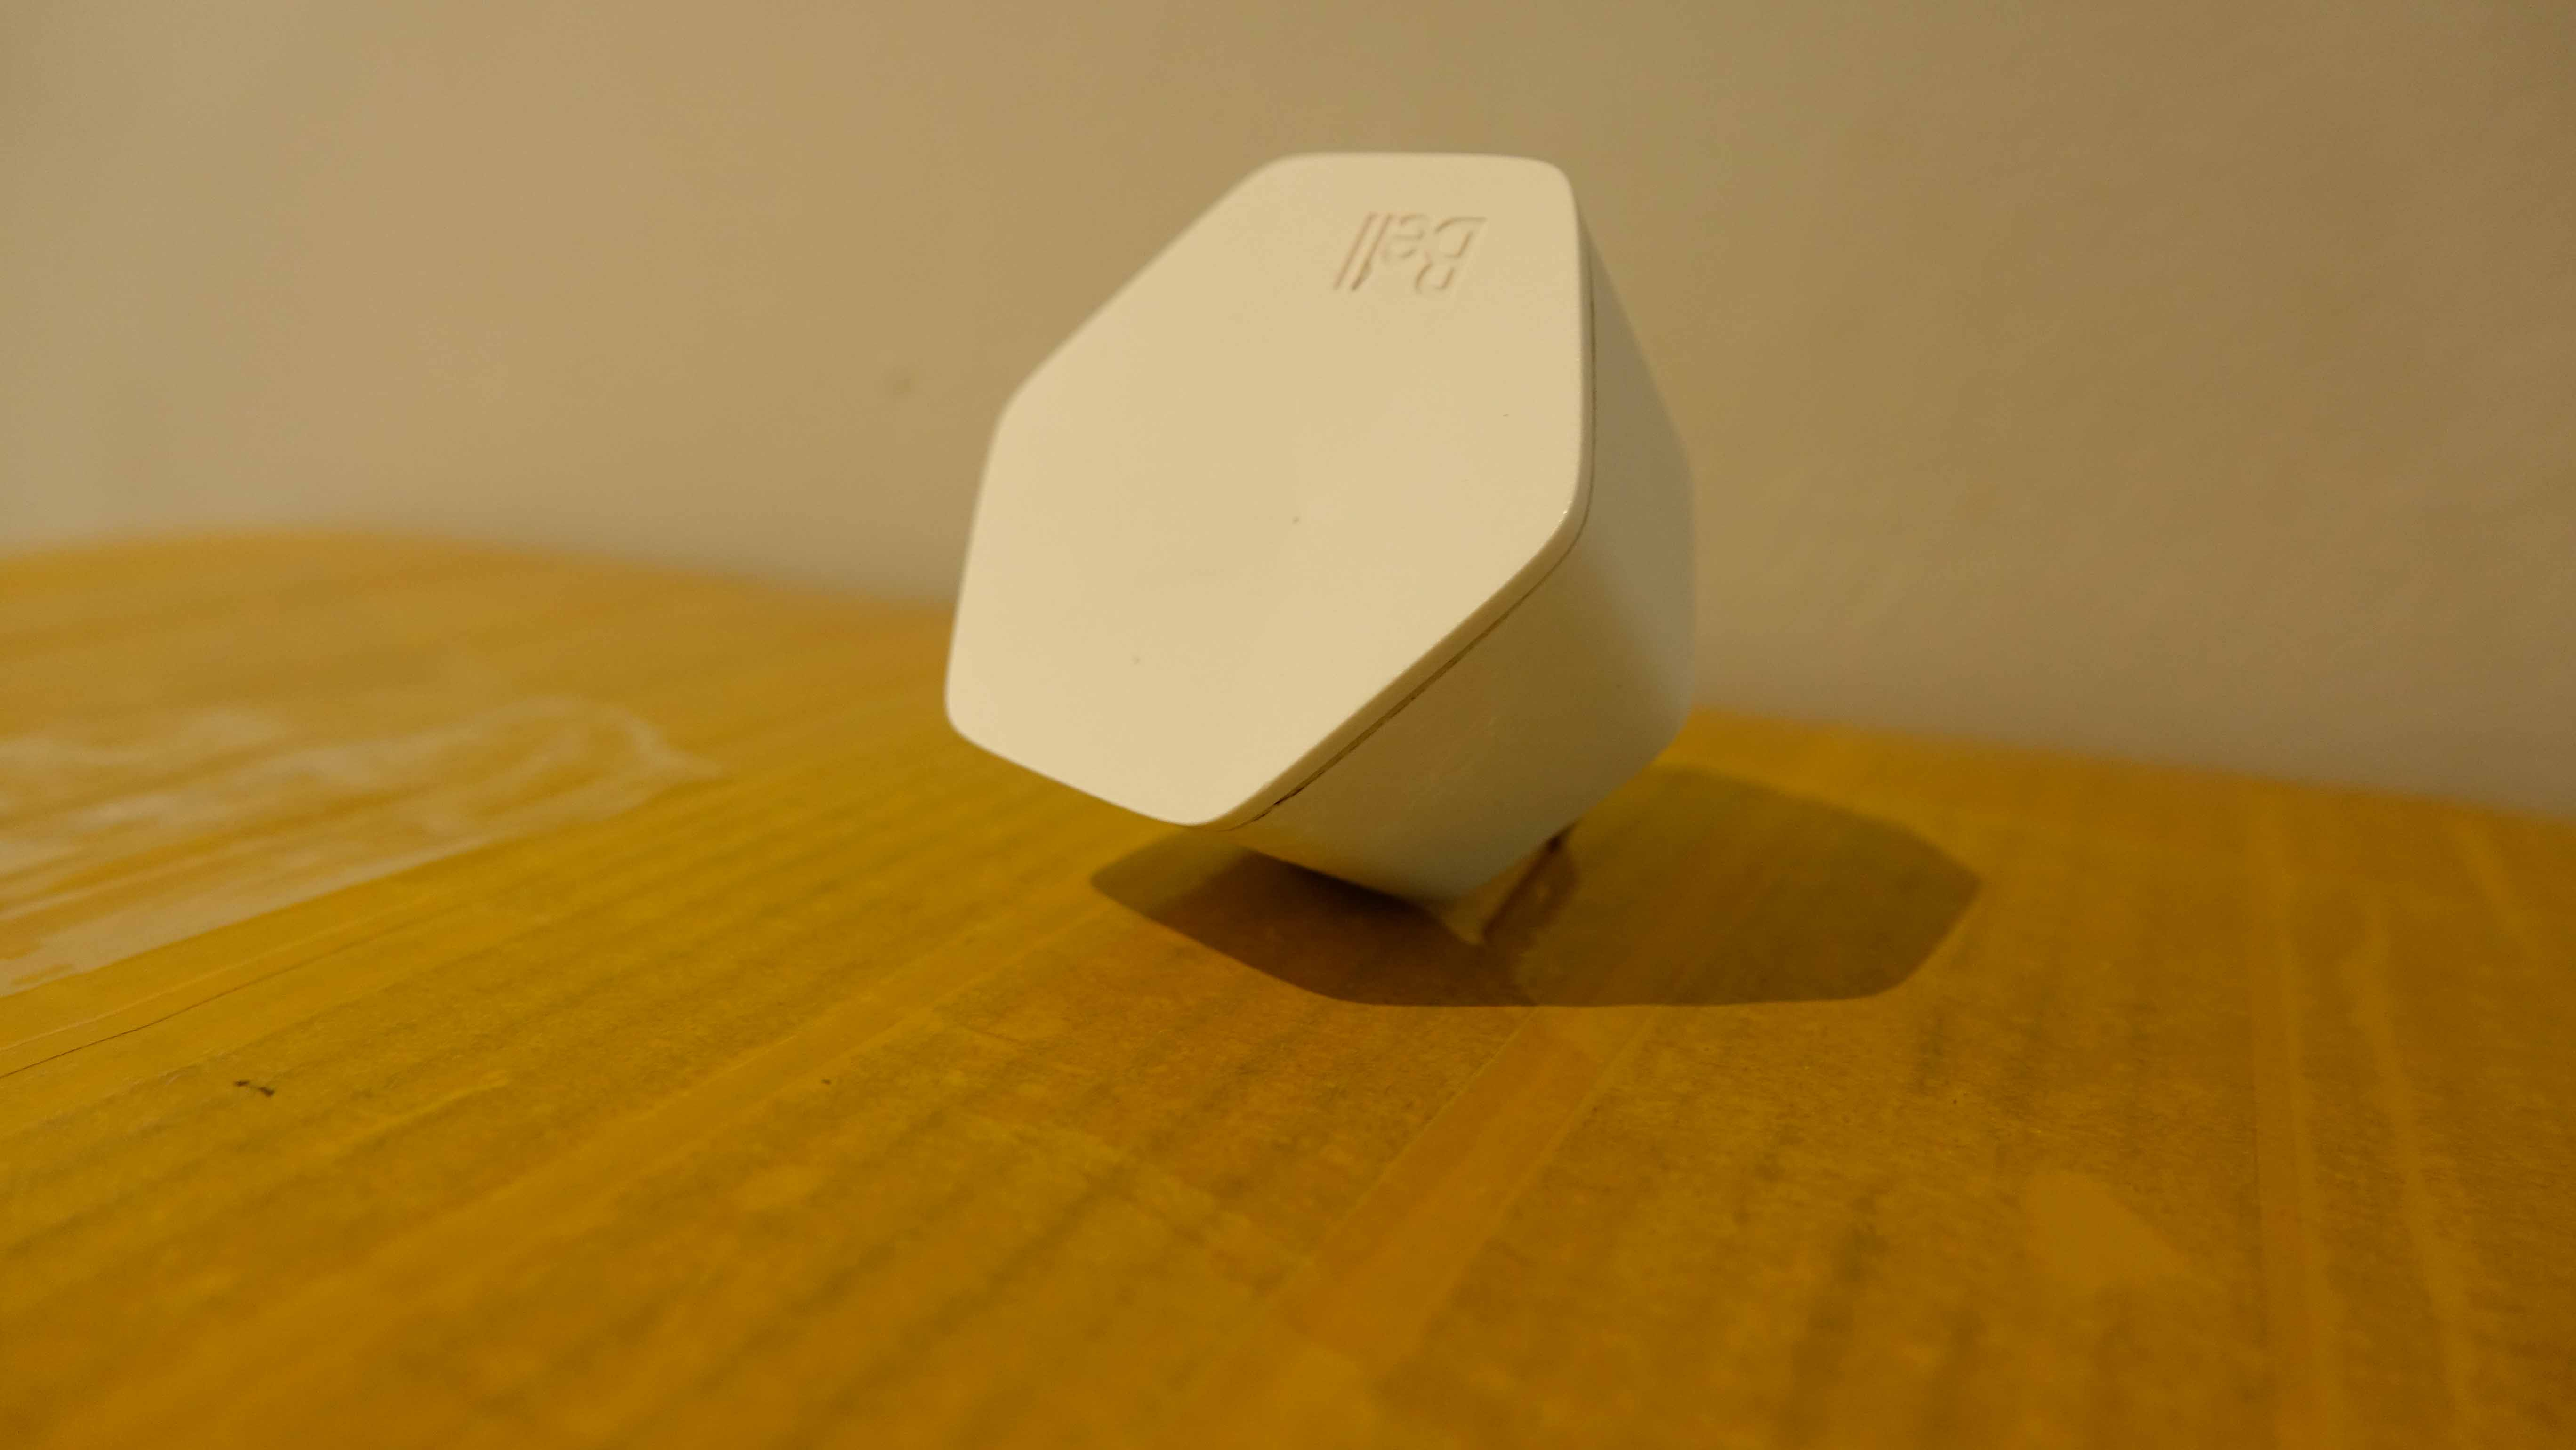pod: (934, 140, 1725, 921)
